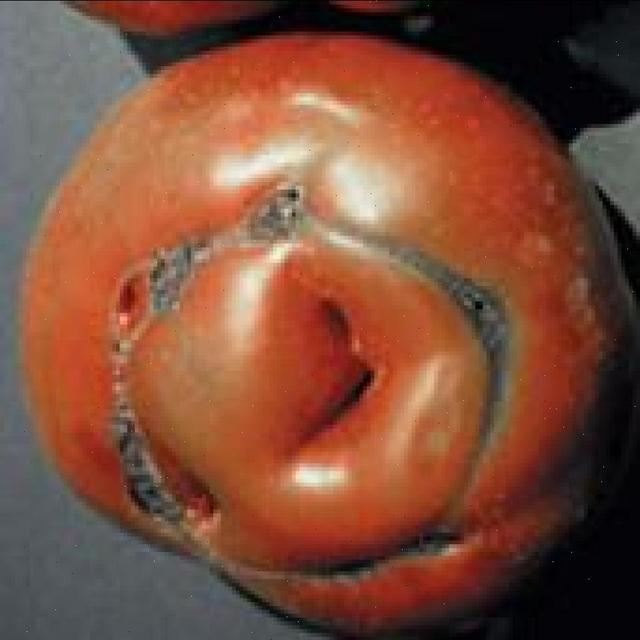Cracking Fruit: (105, 232, 285, 289)
